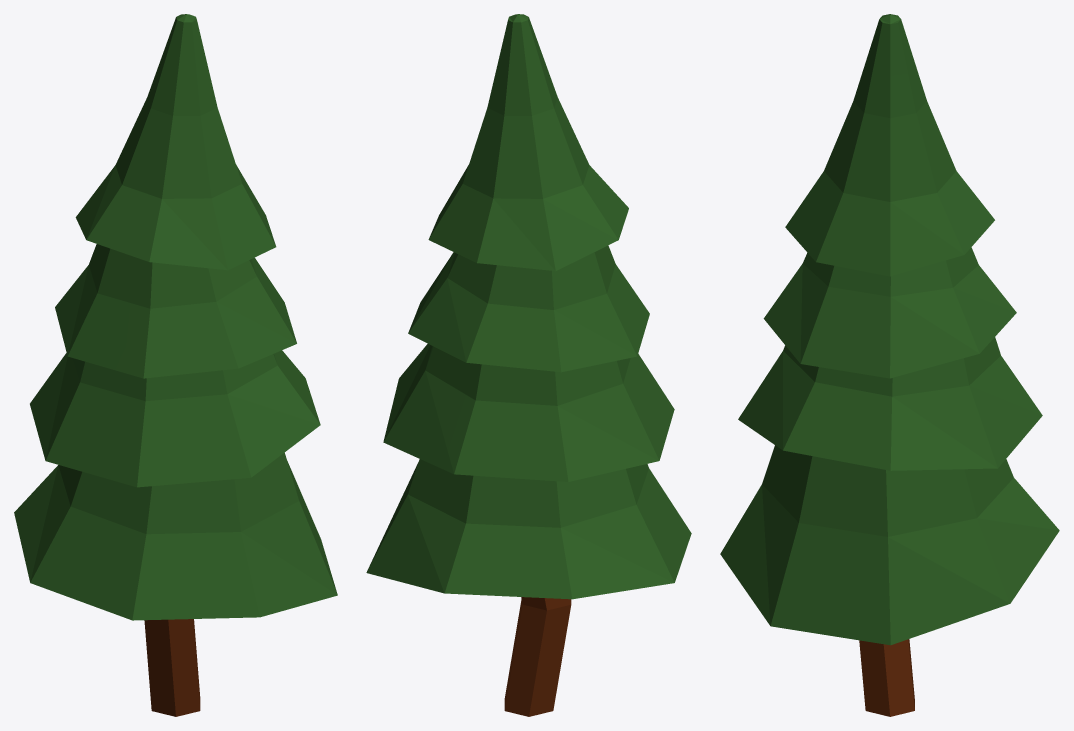
File: winterTree.glb
The picture shows the model from 3 angles, left to right: view 1: azimuth 30°, elevation 25°; view 2: azimuth 150°, elevation 25°; view 3: azimuth 270°, elevation 25°; orthographic projection.
Visible parts, largest first — view 1: Tree_temp_climate_018; view 2: Tree_temp_climate_018; view 3: Tree_temp_climate_018.
Part boxes in pixels (bbox=[...]): Tree_temp_climate_018: bbox=[14, 14, 337, 716]; Tree_temp_climate_018: bbox=[366, 14, 691, 716]; Tree_temp_climate_018: bbox=[720, 14, 1059, 716].
Bounding box in the file's own units: 2.42 × 5.48 × 2.42.
1 material, 1 textured.
